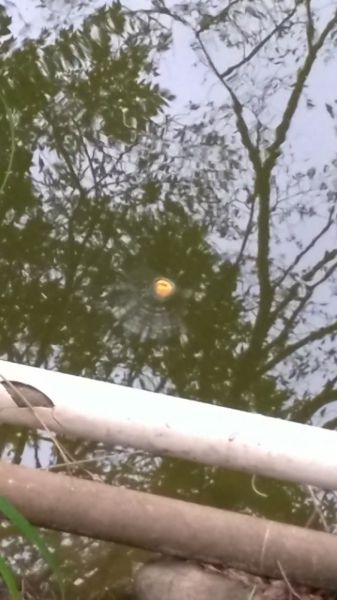eggs: (150, 276, 176, 303)
